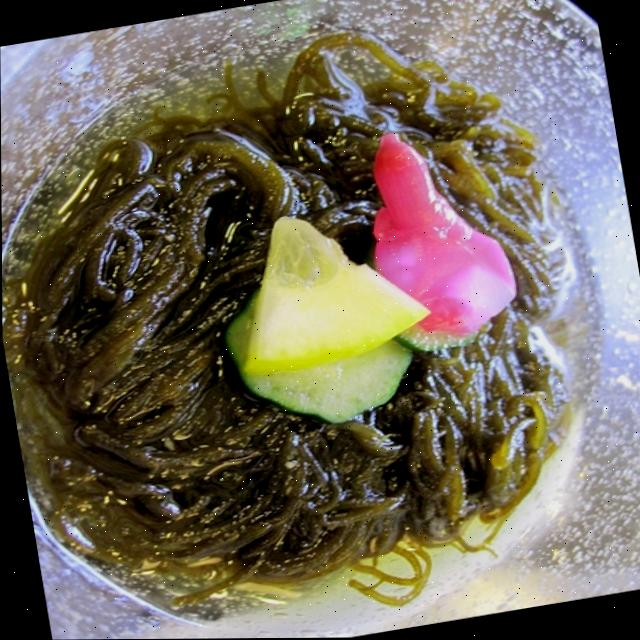蔬菜料理: (0, 5, 638, 640)
